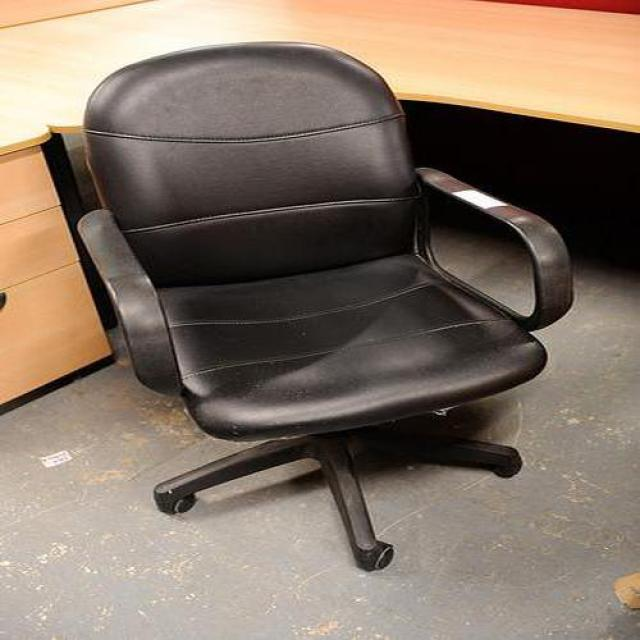swivelchair: (77, 44, 575, 573)
